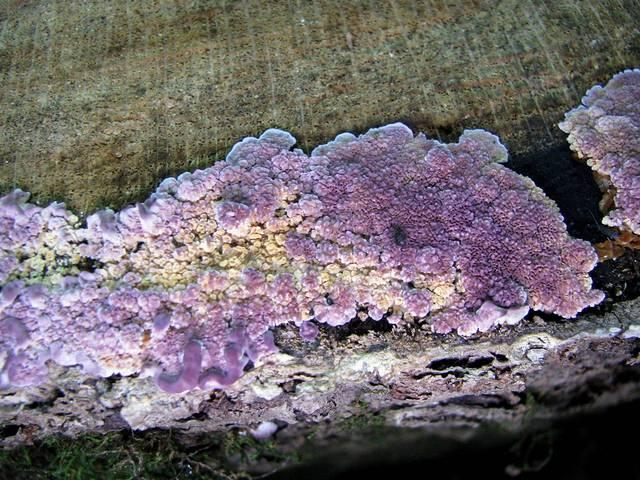poisonous_mushroom: (1, 120, 607, 399)
